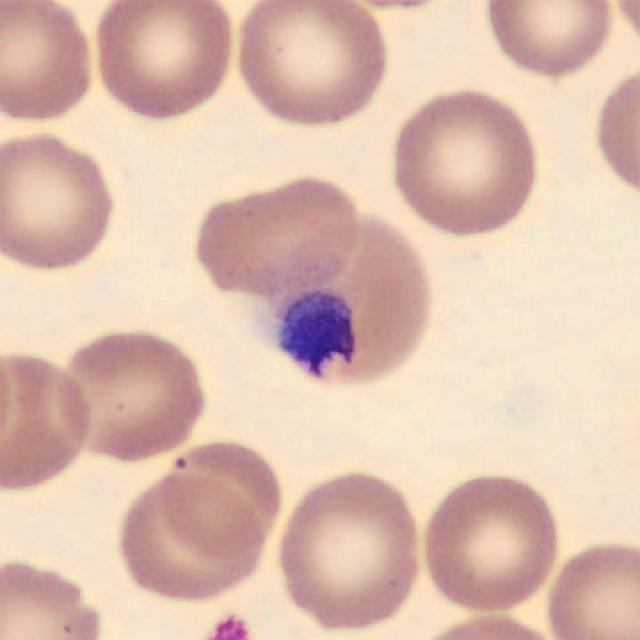Artefato: (281, 295, 350, 375)
